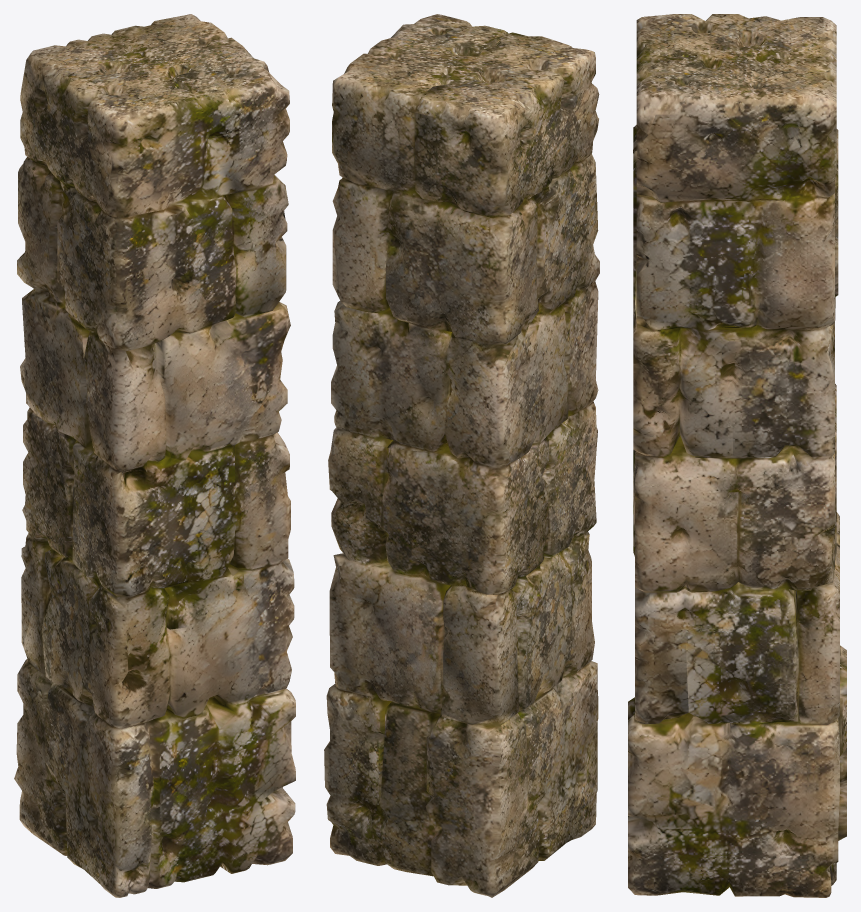
File: ARQ_ColumnaMaya_01_LOD0.fbx
The picture shows the model from 3 angles, left to right: view 1: azimuth 30°, elevation 25°; view 2: azimuth 150°, elevation 25°; view 3: azimuth 270°, elevation 25°; orthographic projection. The views are drawn at different scales.
Visible parts, largest first — view 1: ARQ_ColumnaMaya_01_Mesh000; view 2: ARQ_ColumnaMaya_01_Mesh000; view 3: ARQ_ColumnaMaya_01_Mesh000.
Boxes of the visible parts, x1,y1,x2,y2 form: ARQ_ColumnaMaya_01_Mesh000: (14,14,295,897); ARQ_ColumnaMaya_01_Mesh000: (324,14,599,897); ARQ_ColumnaMaya_01_Mesh000: (628,14,846,897).
Bounding box in the file's own units: 0.7339 × 3 × 0.7456.
